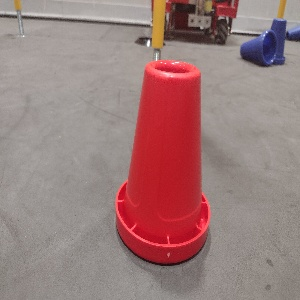Red_1: (110, 47, 210, 264)
